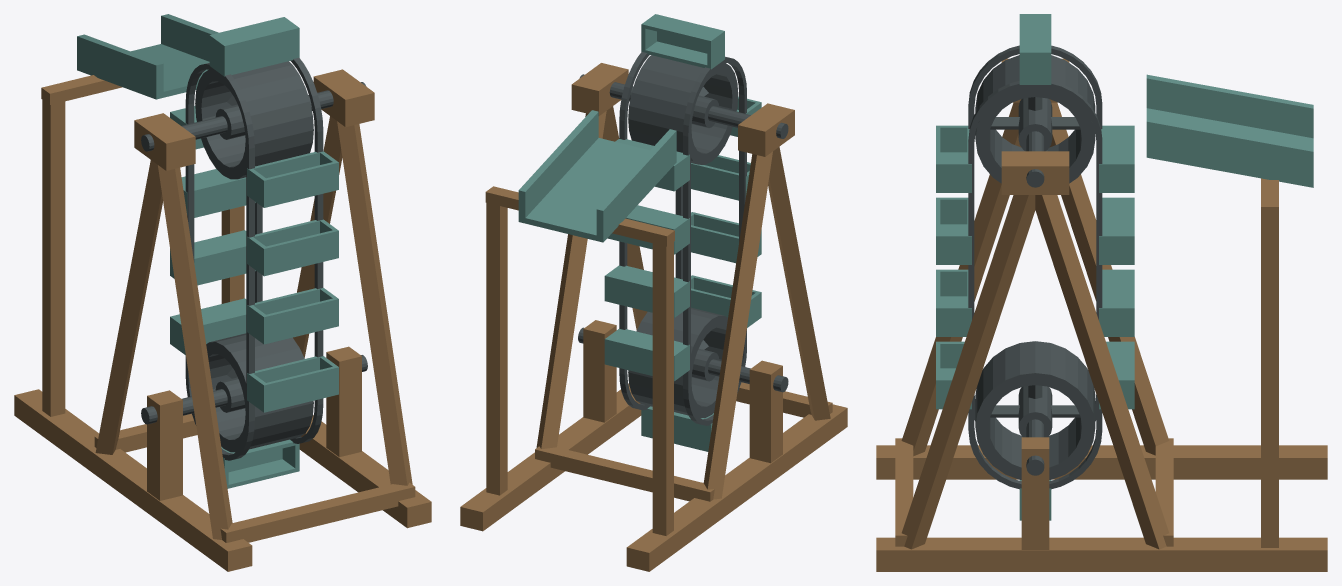
3 views of the same model, side by side, from view 1: azimuth 30°, elevation 25°; view 2: azimuth 150°, elevation 25°; view 3: azimuth 270°, elevation 25° (orthographic). The views are drawn at different scales.
Visible parts, largest first — view 1: UpperWholeOpenRim, LeftWholeGroundSkid, LeftFrontWholeSlopingFrameLeg, RightFrontWholeSlopingFrameLeg, LeftOutletSupportPost, WholeSlopingOpenOutletGutter, LowerWholeOpenRim, LeftRearWholeSlopingFrameLeg, FrontLowCrossTie, LeftWholeContinuousStylizedChainLoop, UpperTurningWholeBucket, AscendingWholeOpenBucket2 (+21 smaller); view 2: WholeSlopingOpenOutletGutter, LeftWholeGroundSkid, UpperWholeOpenRim, LeftRearWholeSlopingFrameLeg, LeftOutletSupportPost, RightOutletSupportPost, RightWholeGroundSkid, LeftFrontWholeSlopingFrameLeg, RightRearWholeSlopingFrameLeg, LowerWholeOpenRim, LeftWholeContinuousStylizedChainLoop, UpperTurningWholeBucket (+21 smaller); view 3: RightWholeGroundSkid, WholeSlopingOpenOutletGutter, LowerWholeOpenRim, RightFrontWholeSlopingFrameLeg, RightRearWholeSlopingFrameLeg, LeftWholeGroundSkid, UpperWholeOpenRim, RightOutletSupportPost, RightWholeContinuousStylizedChainLoop, LeftRearWholeSlopingFrameLeg, LeftFrontWholeSlopingFrameLeg, RightLowerBearingPost (+18 smaller).
Part boxes in pixels (x1,y1,x2,y2): UpperWholeOpenRim: (195,61,313,179); LeftWholeGroundSkid: (14,389,252,571); LeftFrontWholeSlopingFrameLeg: (158,165,232,539); RightFrontWholeSlopingFrameLeg: (337,121,412,485); LeftOutletSupportPost: (42,100,65,416); WholeSlopingOpenOutletGutter: (77,14,218,99); LowerWholeOpenRim: (206,333,313,452); LeftRearWholeSlopingFrameLeg: (95,160,162,454); FrontLowCrossTie: (220,482,415,542); LeftWholeContinuousStylizedChainLoop: (185,63,254,460); UpperTurningWholeBucket: (209,17,299,76); AscendingWholeOpenBucket2: (247,219,338,276); WholeSlopingOpenOutletGutter: (518,110,676,242); LeftWholeGroundSkid: (626,404,847,571); UpperWholeOpenRim: (628,55,738,164); LeftRearWholeSlopingFrameLeg: (703,151,772,499); LeftOutletSupportPost: (652,242,673,535); RightOutletSupportPost: (486,202,507,495); RightWholeGroundSkid: (460,383,641,531); LeftFrontWholeSlopingFrameLeg: (768,147,830,420); RightRearWholeSlopingFrameLeg: (536,111,606,449); LowerWholeOpenRim: (628,307,727,418); LeftWholeContinuousStylizedChainLoop: (683,56,746,425); UpperTurningWholeBucket: (641,14,724,69); RightWholeGroundSkid: (876,537,1327,571); WholeSlopingOpenOutletGutter: (1146,74,1313,187); LowerWholeOpenRim: (975,341,1095,479); RightFrontWholeSlopingFrameLeg: (901,195,1035,549); RightRearWholeSlopingFrameLeg: (1035,195,1168,549); LeftWholeGroundSkid: (876,445,1327,479); UpperWholeOpenRim: (975,55,1095,183); RightOutletSupportPost: (1261,218,1278,547); RightWholeContinuousStylizedChainLoop: (968,81,1102,489); LeftRearWholeSlopingFrameLeg: (1049,102,1169,455); LeftFrontWholeSlopingFrameLeg: (901,102,1021,456); RightLowerBearingPost: (1021,437,1049,549).
Bounding box in the file's own units: 1.34 × 2.7 × 2.27.
